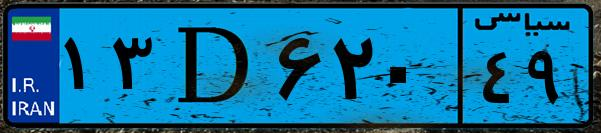0: (385, 28, 445, 110)
1: (57, 26, 110, 100)
2: (330, 28, 385, 110)
3: (110, 28, 158, 98)
4: (475, 38, 525, 113)
6: (270, 28, 330, 110)
9: (525, 38, 570, 115)
D: (158, 12, 270, 120)
